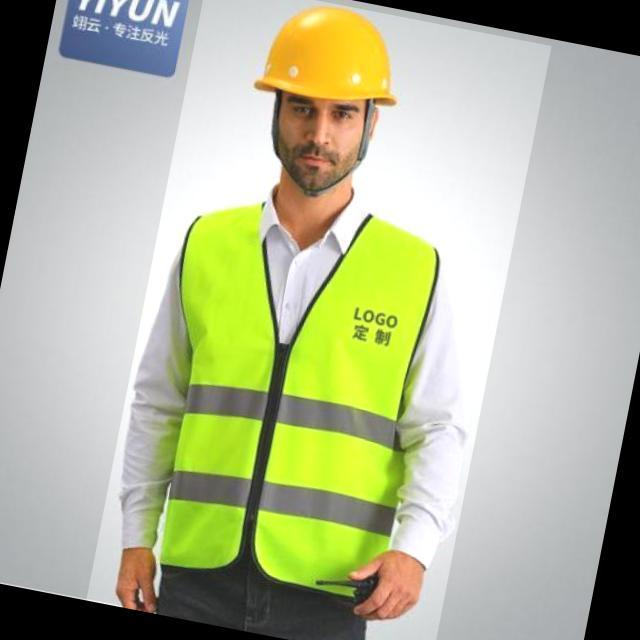Helmet: (252, 0, 414, 122)
Person: (95, 0, 477, 639)
Safety Vest: (129, 179, 454, 609)
